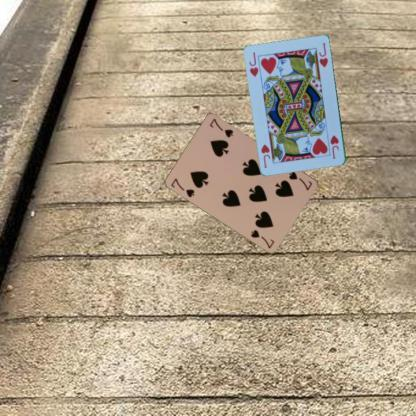7s: (286, 168, 314, 192), (169, 176, 196, 198)
Jh: (246, 50, 260, 78), (328, 133, 340, 160)
